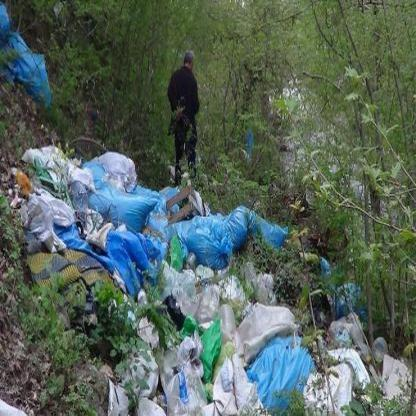Garbage: (136, 211, 236, 415), (30, 145, 135, 288), (242, 292, 304, 416), (309, 328, 408, 394), (0, 0, 49, 100), (236, 206, 289, 255)
